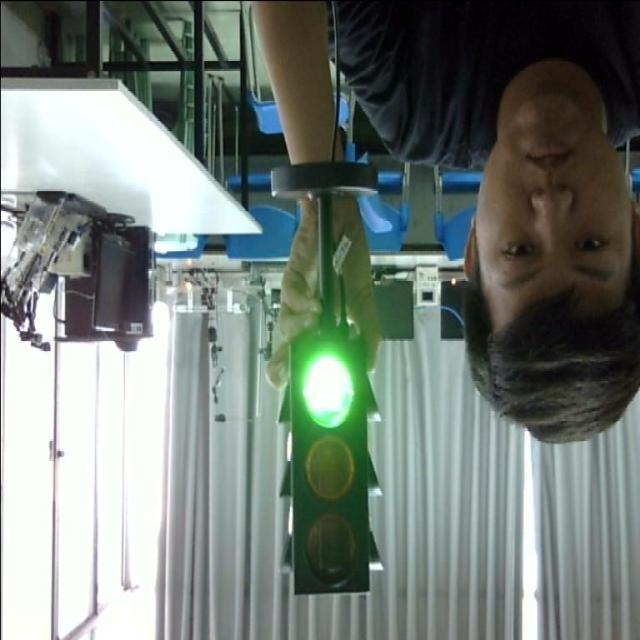green light: (286, 338, 360, 429)
